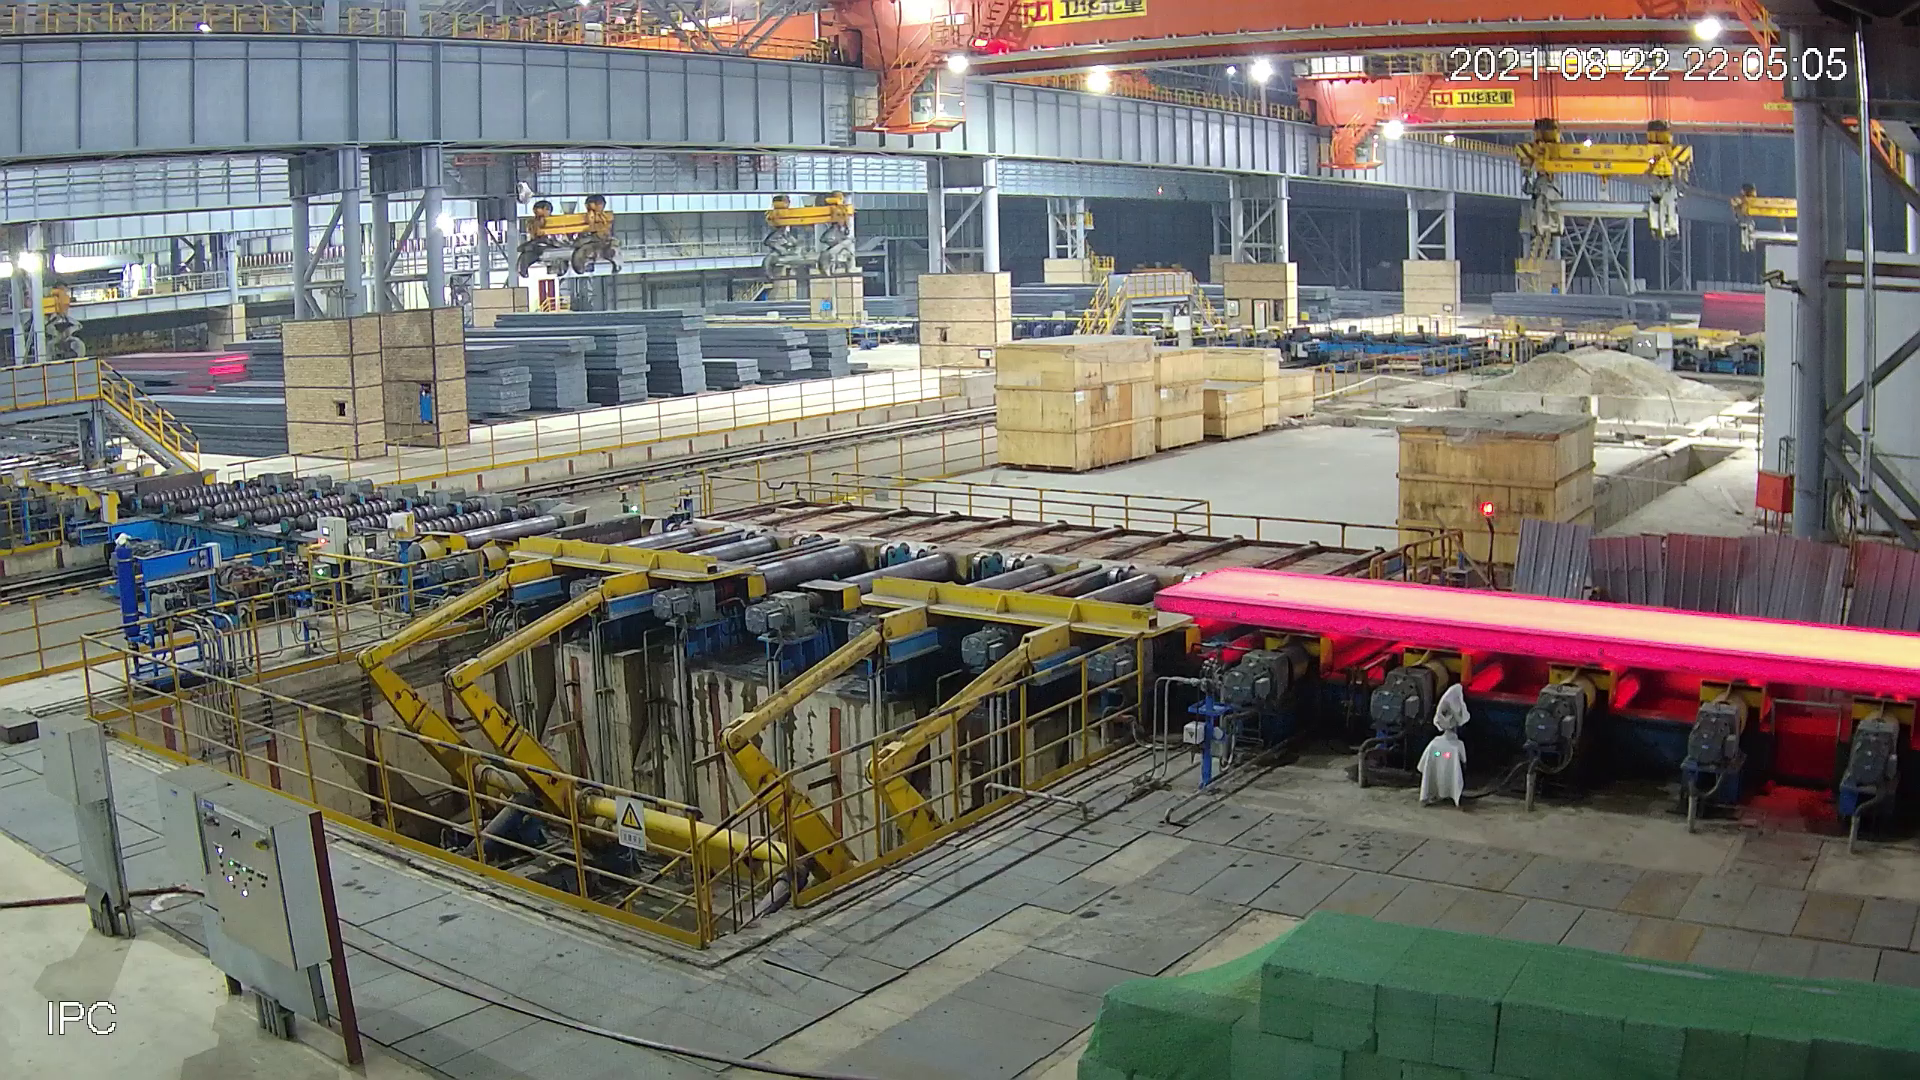slab: (1154, 568, 1917, 692)
